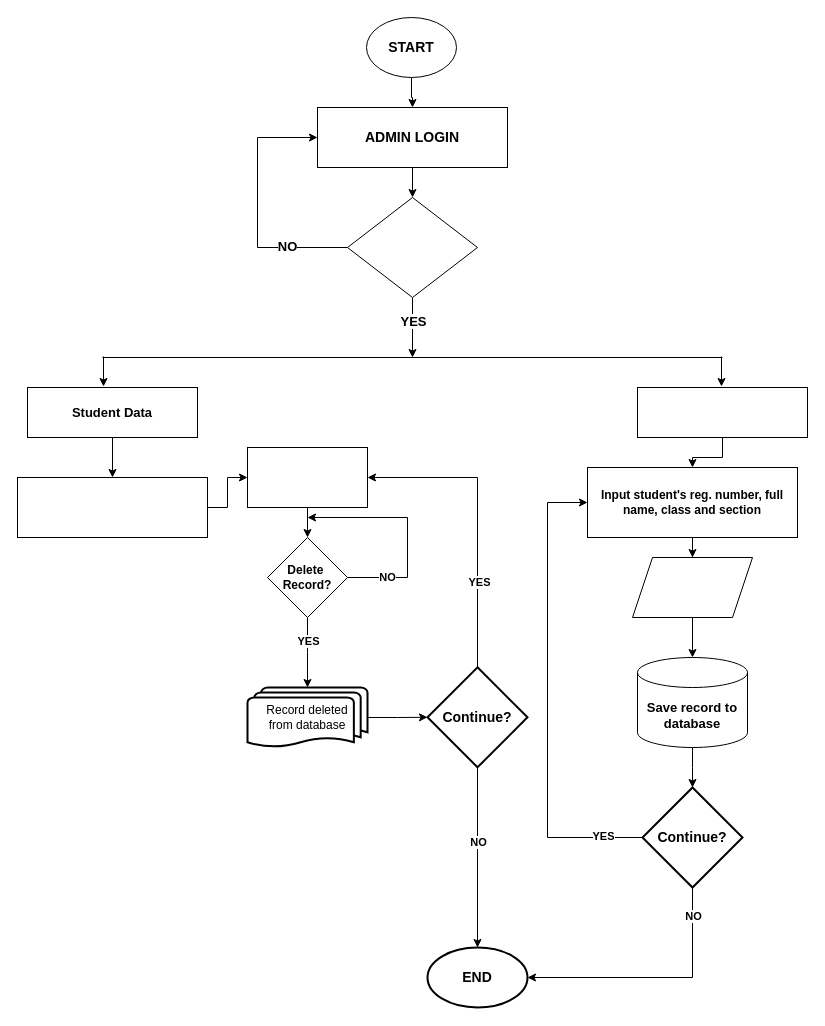
This 825x1026 diagram has some shape labels left out. Here are the shapes that lost their labels. From the top down, the centre of each, then its label:
(412,247): Authenticated?
(722,412): Add New Student
(307,477): Display Student's registration number, name, class and session
(112,507): Select class and display student information
(692,587): Capture student's photo
